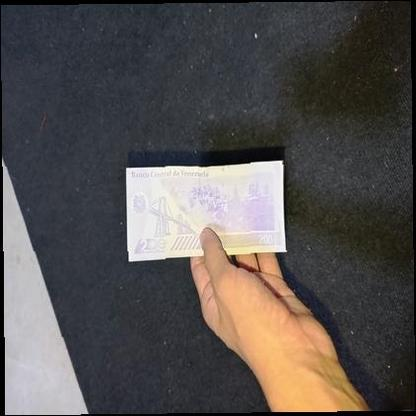two_hundred-back-vef: (125, 159, 287, 261)
